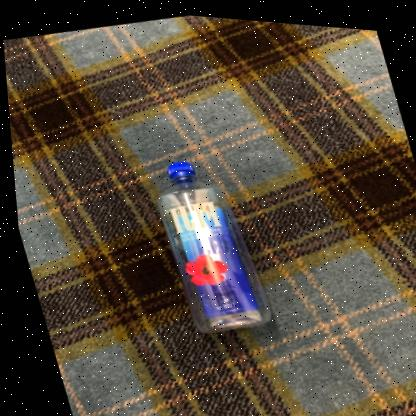Plastic: (153, 158, 266, 330)
